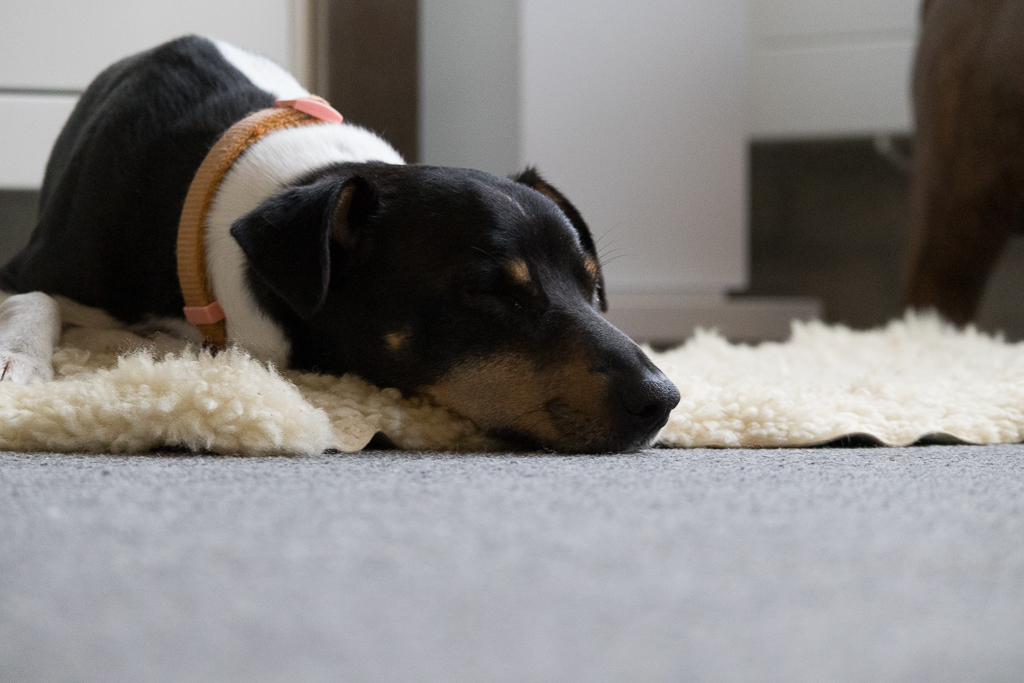Cattle: (890, 0, 1024, 339)
Dog: (0, 21, 695, 467)
